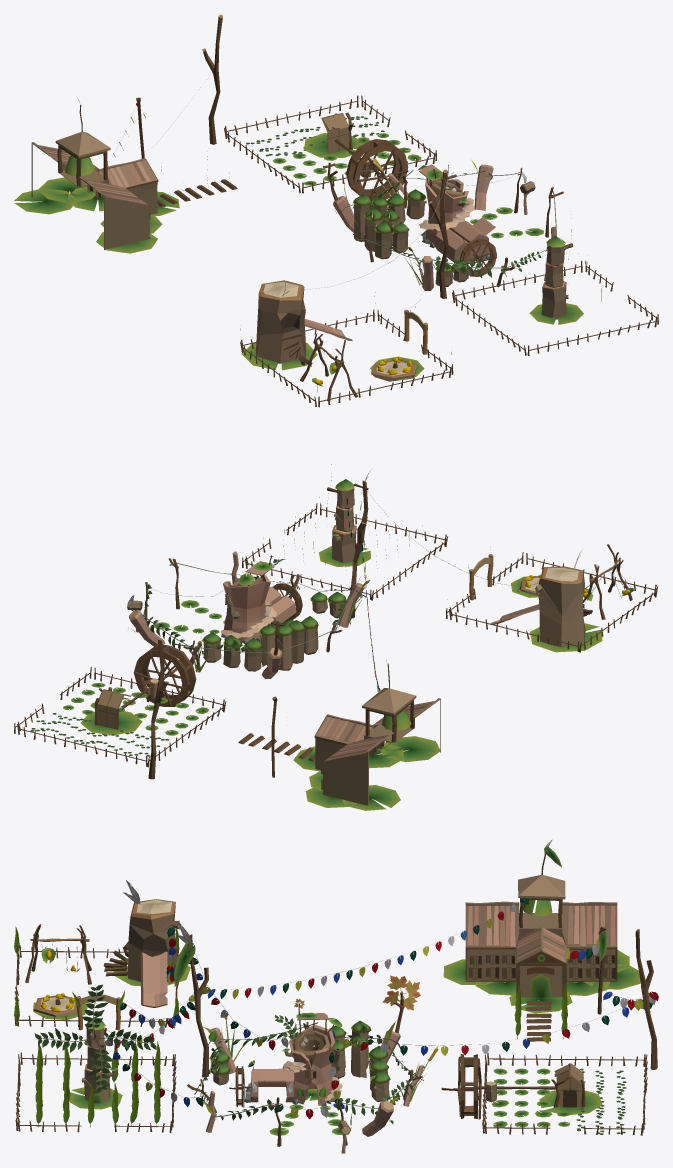
3 views of the same model, one above another, from view 1: azimuth 30°, elevation 25°; view 2: azimuth 150°, elevation 25°; view 3: azimuth 270°, elevation 25° (orthographic). The views are drawn at different scales.
Visible parts, largest first — view 1: flag1.002, watermill.009, duckscarousel.006, watermillHouse.011; view 2: flag1.002, watermill.009; view 3: flag1.002, windmill.010, watermill.009, duckscarousel.006, nestStageWindmill_11.013.
Part boxes in pixels (x1=…): flag1.002: x1=14, y1=14, x2=658, y2=407; watermill.009: x1=334, y1=139, x2=408, y2=199; duckscarousel.006: x1=371, y1=357, x2=416, y2=381; watermillHouse.011: x1=460, y1=238, x2=496, y2=276; flag1.002: x1=14, y1=469, x2=657, y2=810; watermill.009: x1=120, y1=645, x2=196, y2=709; flag1.002: x1=14, y1=839, x2=658, y2=1153; windmill.010: x1=34, y1=984, x2=156, y2=1093; watermill.009: x1=441, y1=1054, x2=555, y2=1119; duckscarousel.006: x1=34, y1=993, x2=82, y2=1017; nestStageWindmill_11.013: x1=382, y1=975, x2=420, y2=1010.
Bounding box in the file's own units: 12.73 × 4.76 × 17.44.
